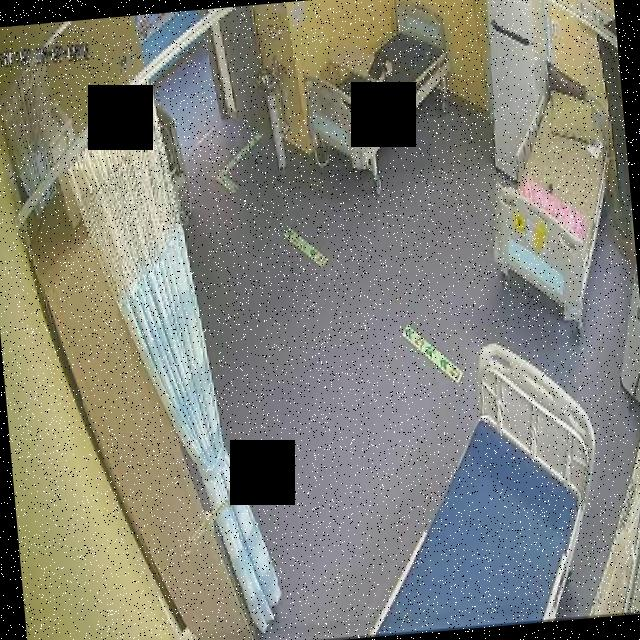bed: (346, 336, 610, 634), (476, 70, 626, 310), (295, 0, 459, 174)
